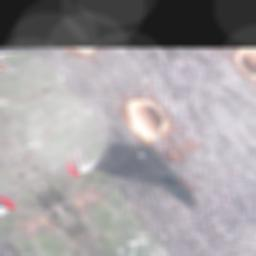Woodpecker: (53, 108, 220, 243)
